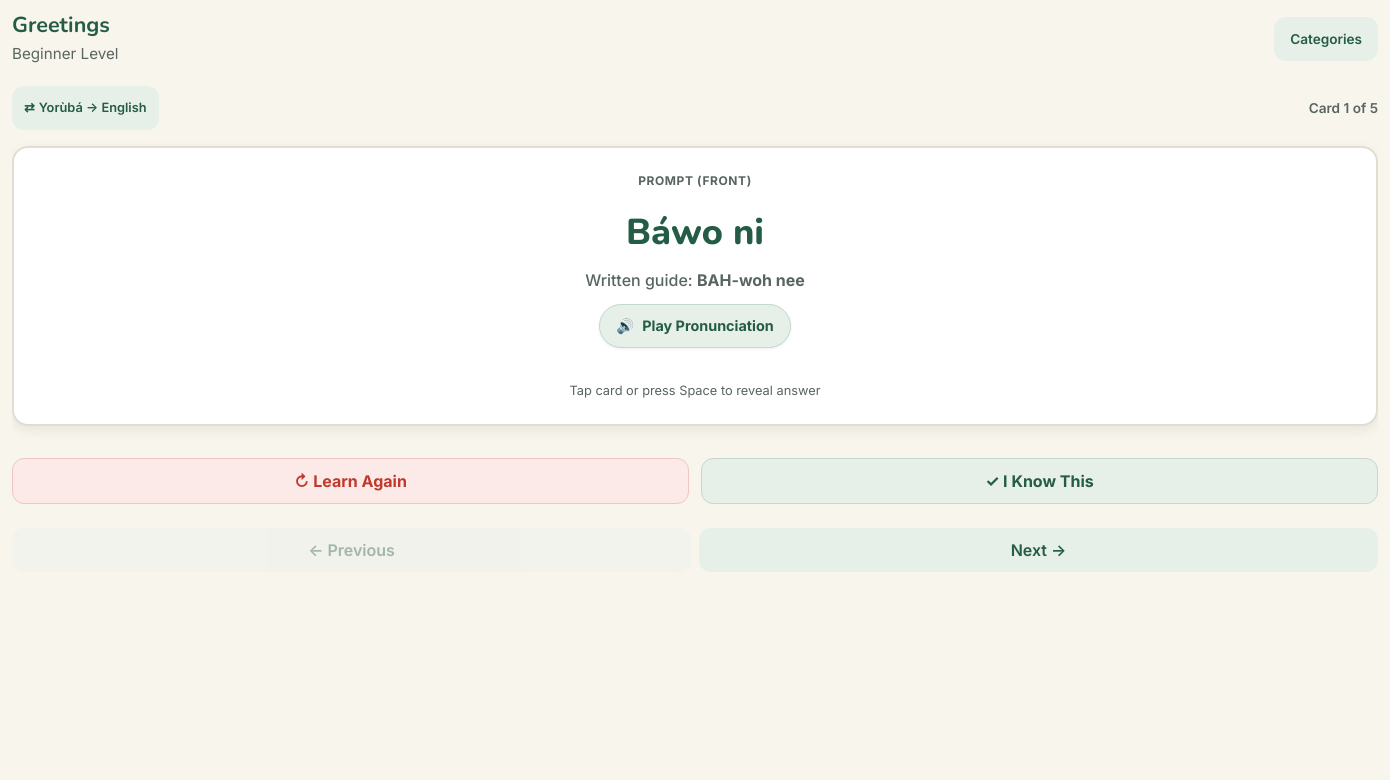
Test: Interactive Flashcards Screen › hides the answer until flipped by click or keyboard
Expected: the text "Báwo ni" is shown, x1=626 y1=208 x2=764 y2=257
Expected: the text "Hello / How are things?" is not shown
Note: Click to flip
Click the button with aria-label "Flashcard: Báwo ni" at (695, 409), box x1=12 y1=146 x2=1378 y2=426
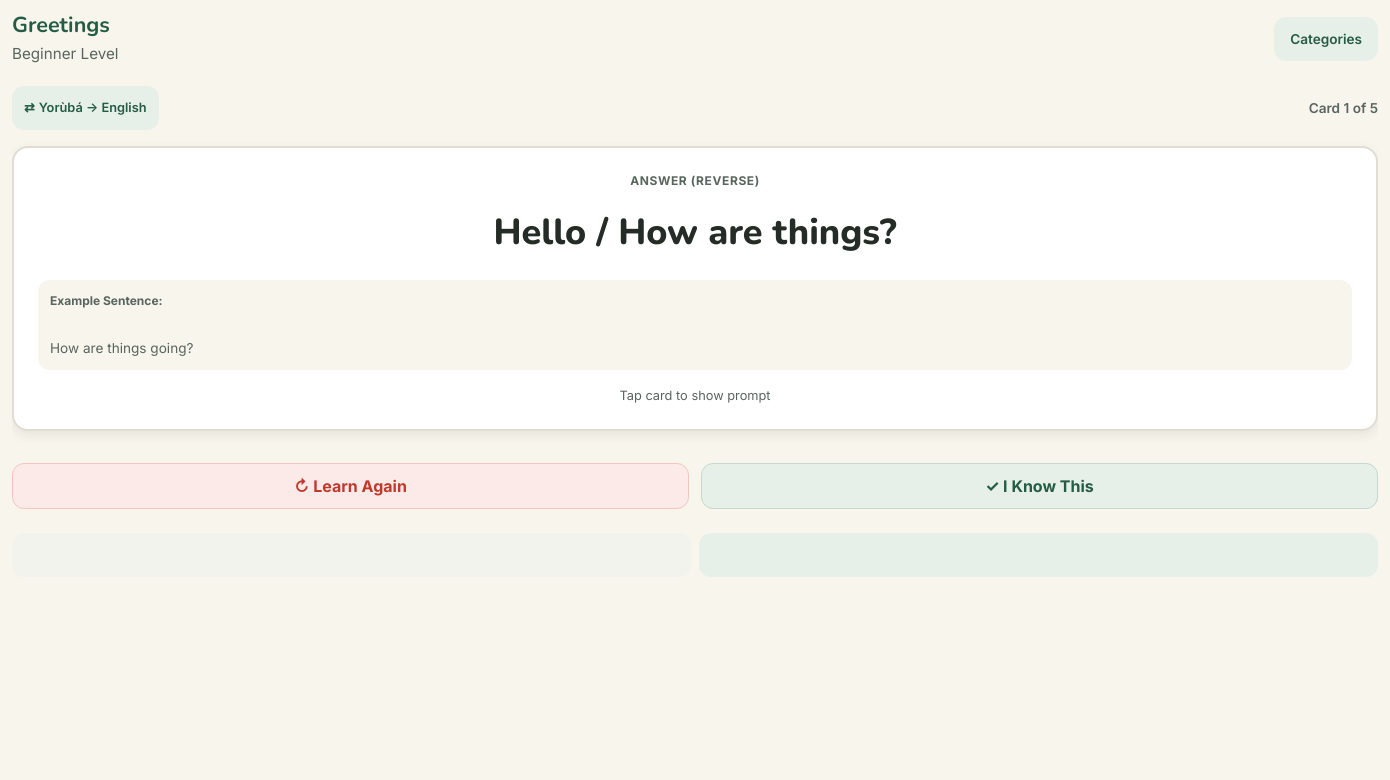
Expected: the text "Hello / How are things?" is shown, x1=493 y1=208 x2=896 y2=257
Note: Flip back using Enter key
Press Enter in the button with aria-label "Flashcard: Báwo ni", box x1=12 y1=146 x2=1378 y2=431
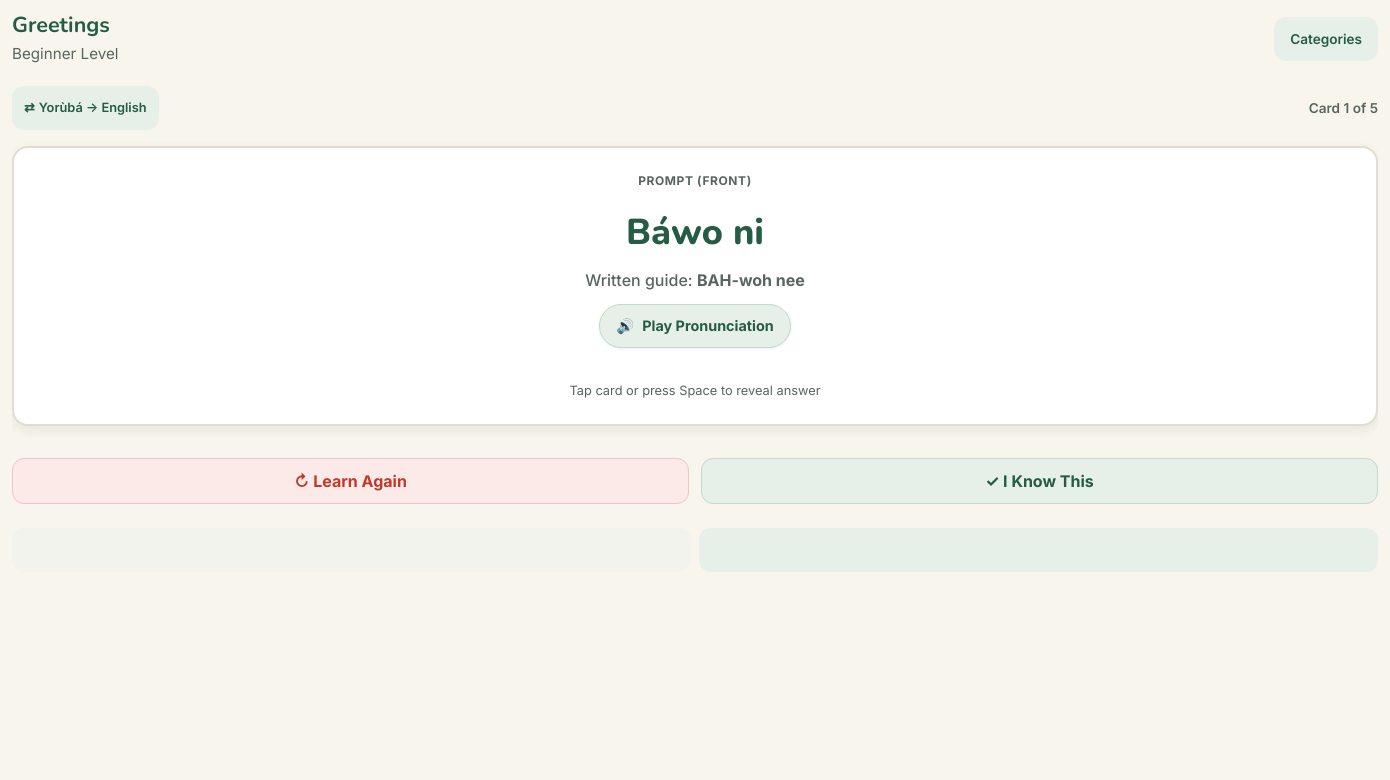
Expected: the text "Báwo ni" is shown, x1=626 y1=208 x2=764 y2=257
Expected: the button "Hello / How are things?" is gone
